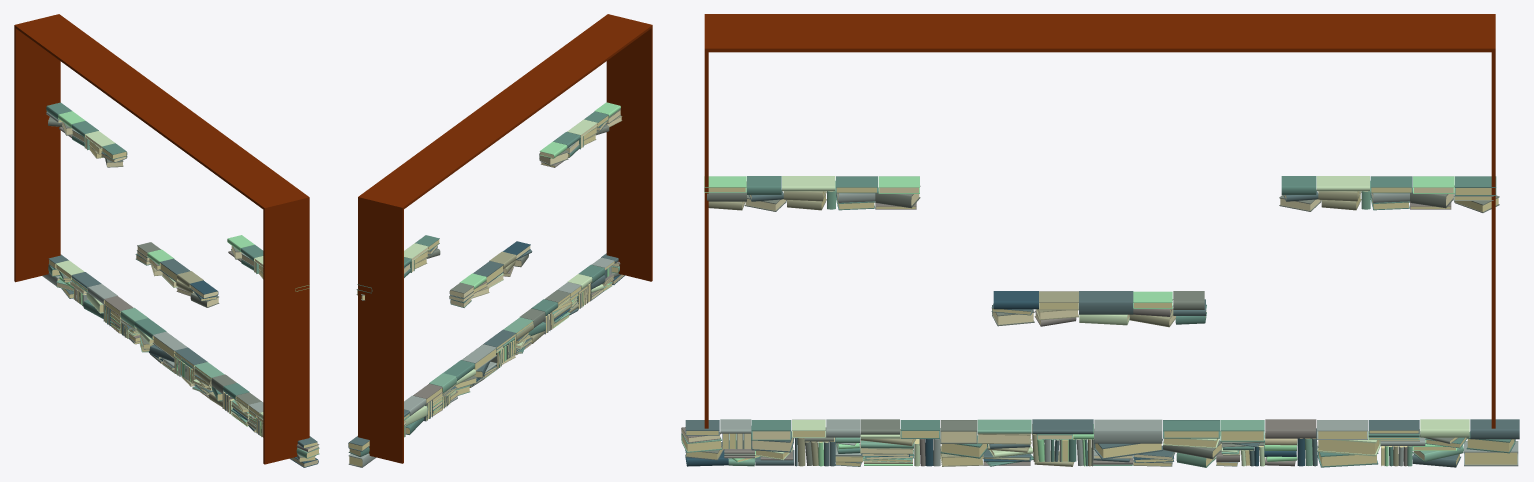
The model's file is 01_Szene.fbx.
3 renders of one model, left to right at view 1: azimuth 30°, elevation 25°; view 2: azimuth 150°, elevation 25°; view 3: azimuth 270°, elevation 25°, orthographic. The views are drawn at different scales.
Parts seen in each view (by area): view 1: Frame_3, Frame_2, Frame_1, Floor, Platform_8, Platform_4; view 2: Frame_2, Frame_1, Frame_3, Floor, Platform_8; view 3: Floor, Frame_2, Frame_3, Frame_1, Platform_8, Platform_4, Start_left_13, polySurface2756.
Boxes of the visible parts, <box> form: Frame_3: <box>263,196,309,464</box>; Frame_2: <box>15,14,307,209</box>; Frame_1: <box>14,14,60,282</box>; Floor: <box>42,254,319,467</box>; Platform_8: <box>159,258,190,281</box>; Platform_4: <box>189,280,218,298</box>; Frame_2: <box>360,15,652,209</box>; Frame_1: <box>358,196,403,463</box>; Frame_3: <box>606,14,652,281</box>; Floor: <box>348,253,624,467</box>; Platform_8: <box>473,261,503,284</box>; Floor: <box>681,419,1519,467</box>; Frame_2: <box>706,14,1493,52</box>; Frame_3: <box>704,14,708,428</box>; Frame_1: <box>1491,14,1495,428</box>; Platform_8: <box>1079,291,1133,314</box>; Platform_4: <box>993,291,1038,309</box>; Start_left_13: <box>782,176,835,191</box>; polySurface2756: <box>1316,176,1369,191</box>.
Bounding box in the file's own units: 23.37 × 112 × 205.
